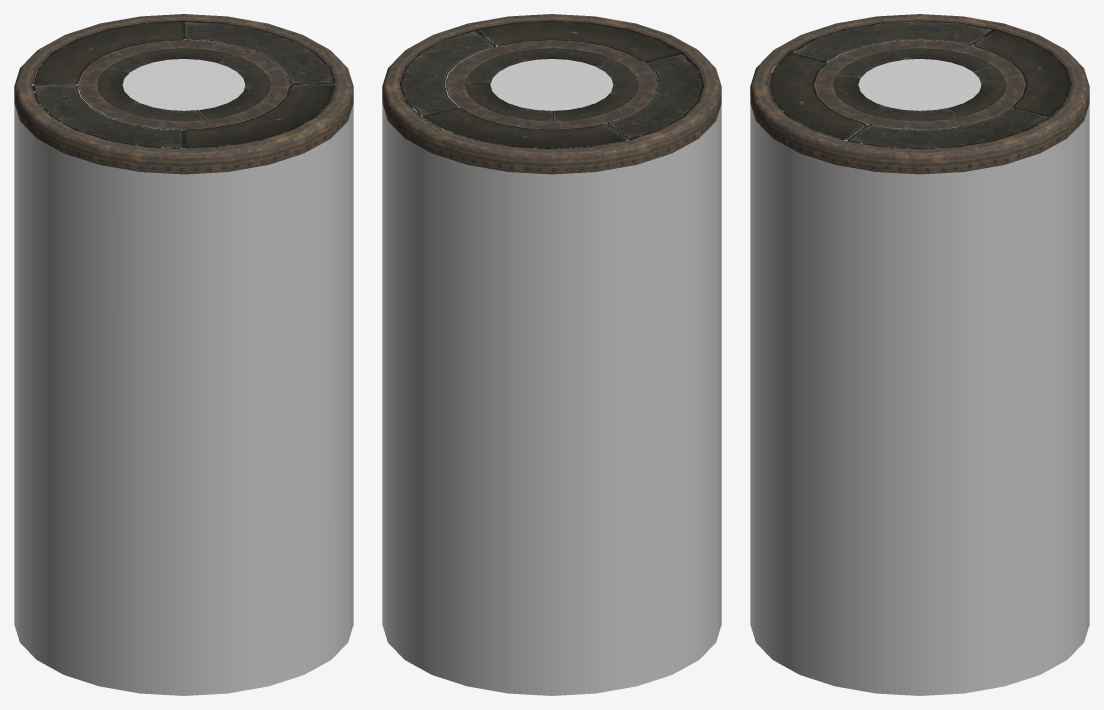
3 renders of one model, left to right at view 1: azimuth 30°, elevation 25°; view 2: azimuth 150°, elevation 25°; view 3: azimuth 270°, elevation 25°, orthographic.
Parts seen in each view (by area): view 1: SM_Dowdun_Spiral_Staircase_Tower_01_LOD0; view 2: SM_Dowdun_Spiral_Staircase_Tower_01_LOD0; view 3: SM_Dowdun_Spiral_Staircase_Tower_01_LOD0.
Boxes of the visible parts, x1=… form: SM_Dowdun_Spiral_Staircase_Tower_01_LOD0: x1=14, y1=14, x2=353, y2=695; SM_Dowdun_Spiral_Staircase_Tower_01_LOD0: x1=382, y1=14, x2=721, y2=695; SM_Dowdun_Spiral_Staircase_Tower_01_LOD0: x1=750, y1=14, x2=1089, y2=695.
Bounding box in the file's own units: 4.57 × 8.02 × 4.57.
2 materials, 1 textured.
